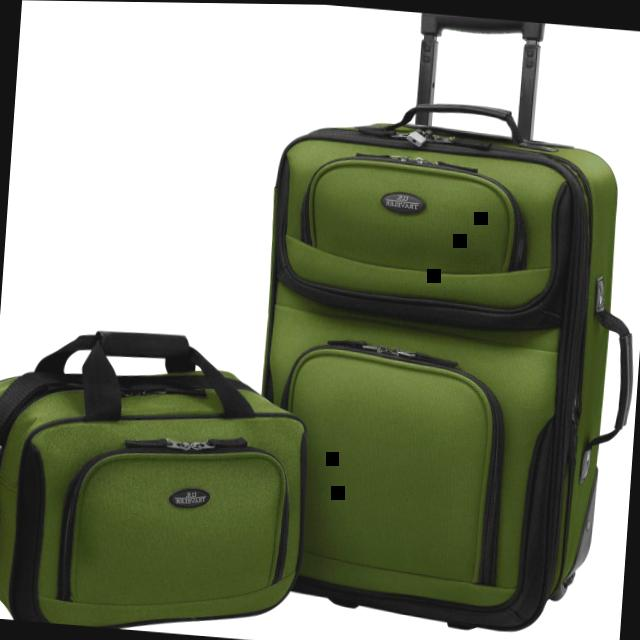luggage: (235, 83, 640, 640), (0, 352, 326, 640)
